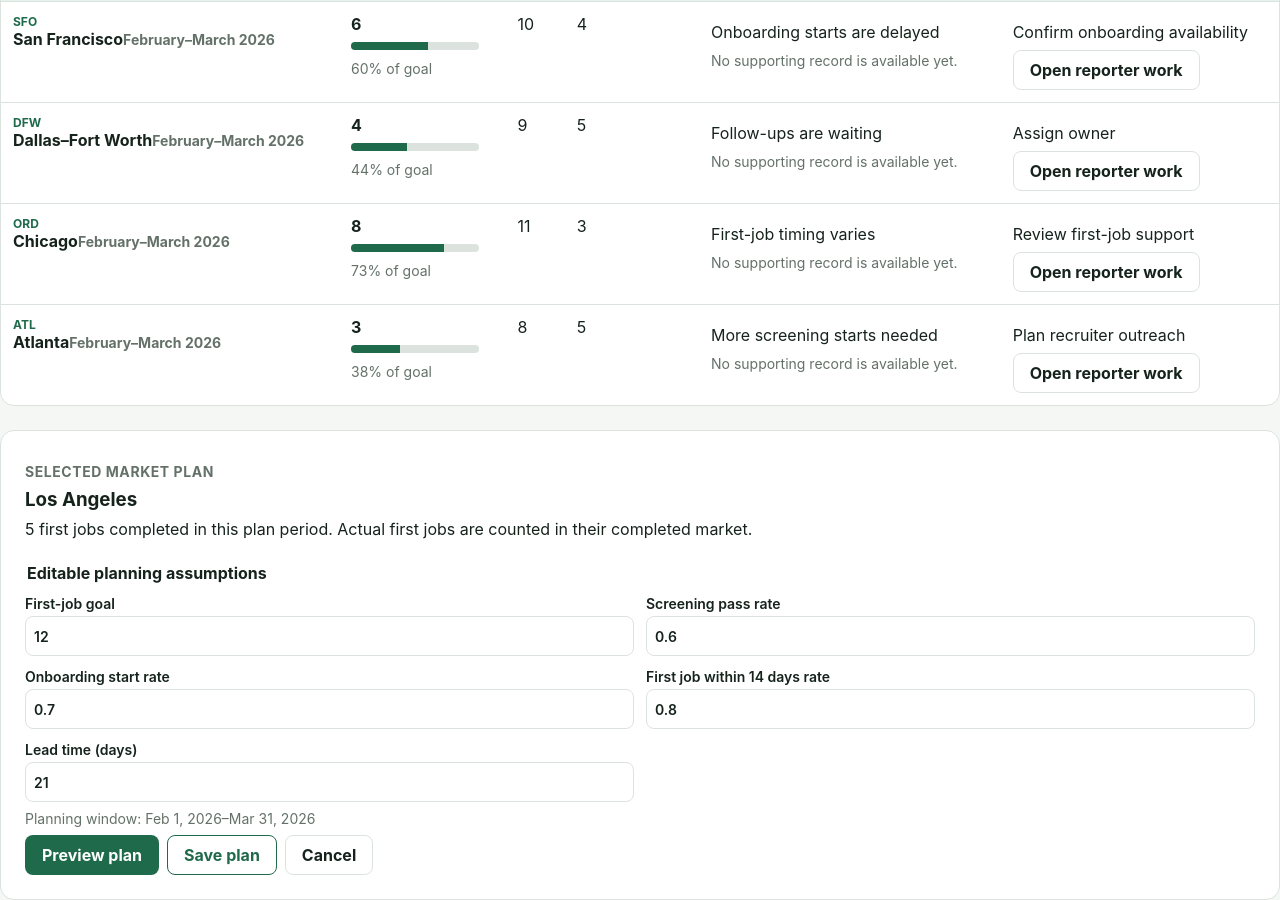
Test: MarketsScreen › cancels and restores local planning values
(page scrolled)
Replace the text in the number field labelled "First-job goal" with "15" at (330, 636), box x1=25 y1=616 x2=634 y2=656
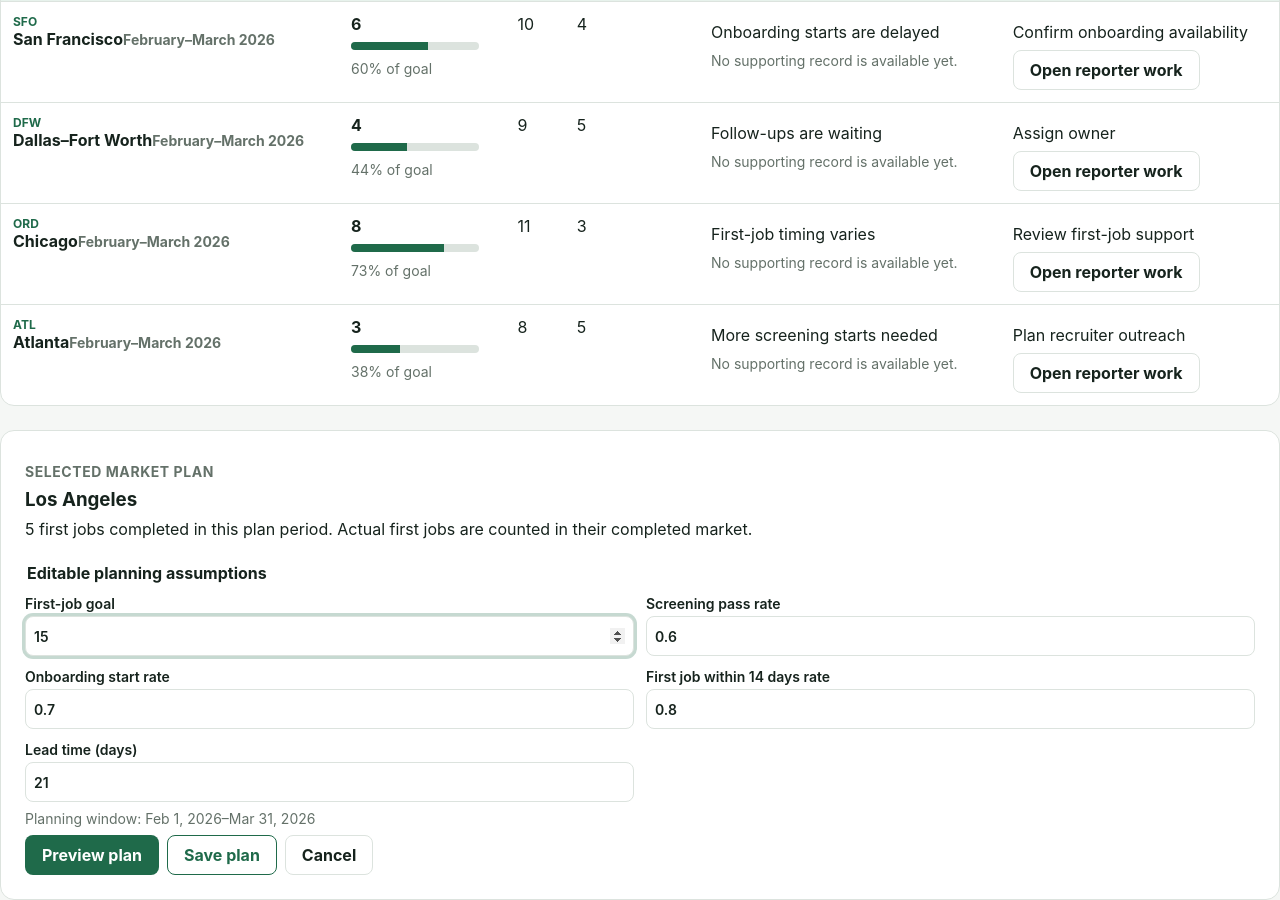
Click the button "Cancel".
click(329, 855)  # box x1=285 y1=835 x2=373 y2=875
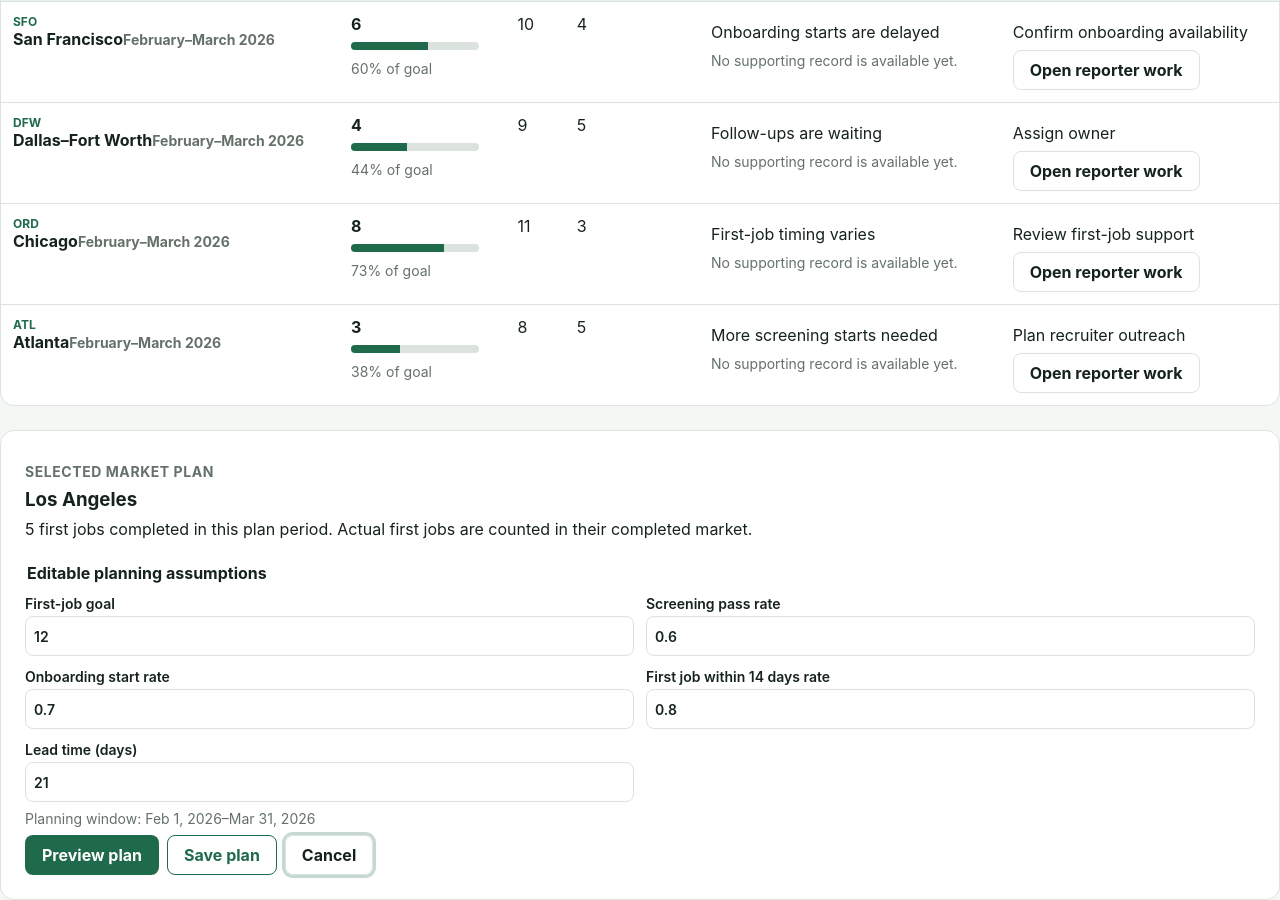
Now the number field labelled "First-job goal" holds "12", box x1=25 y1=616 x2=634 y2=656
